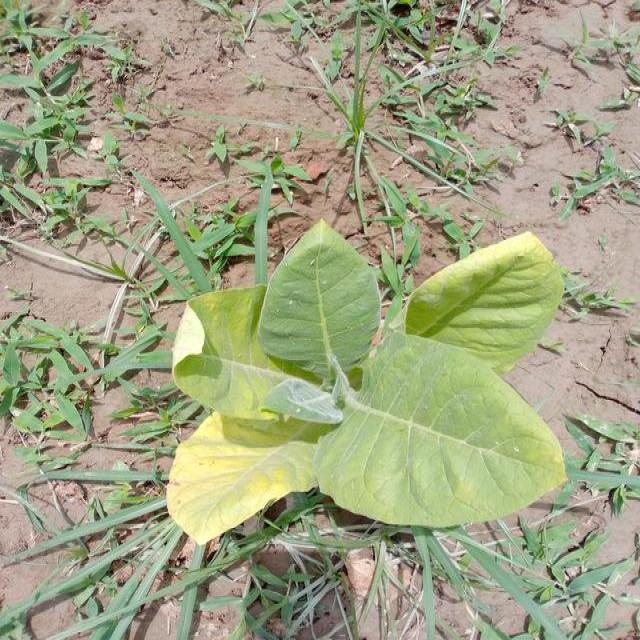crop: (175, 236, 572, 533)
